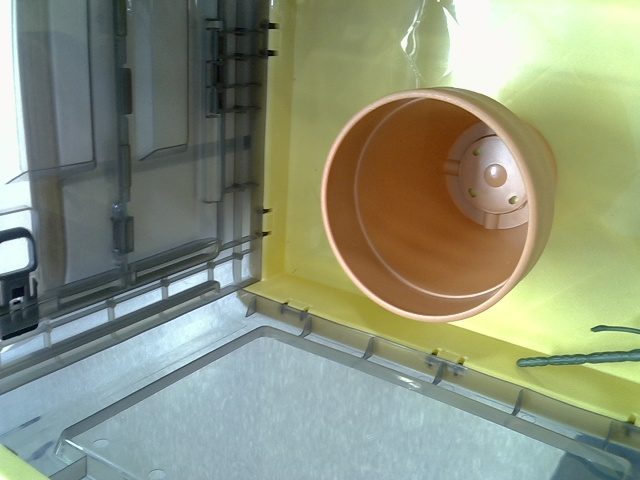화분: (320, 87, 557, 322)
